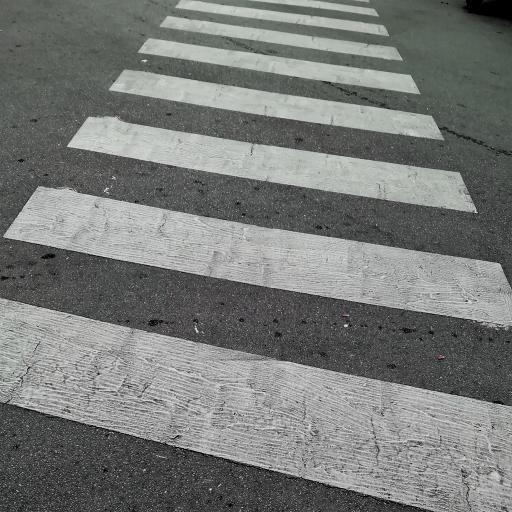crosswalk: (58, 64, 486, 221)
